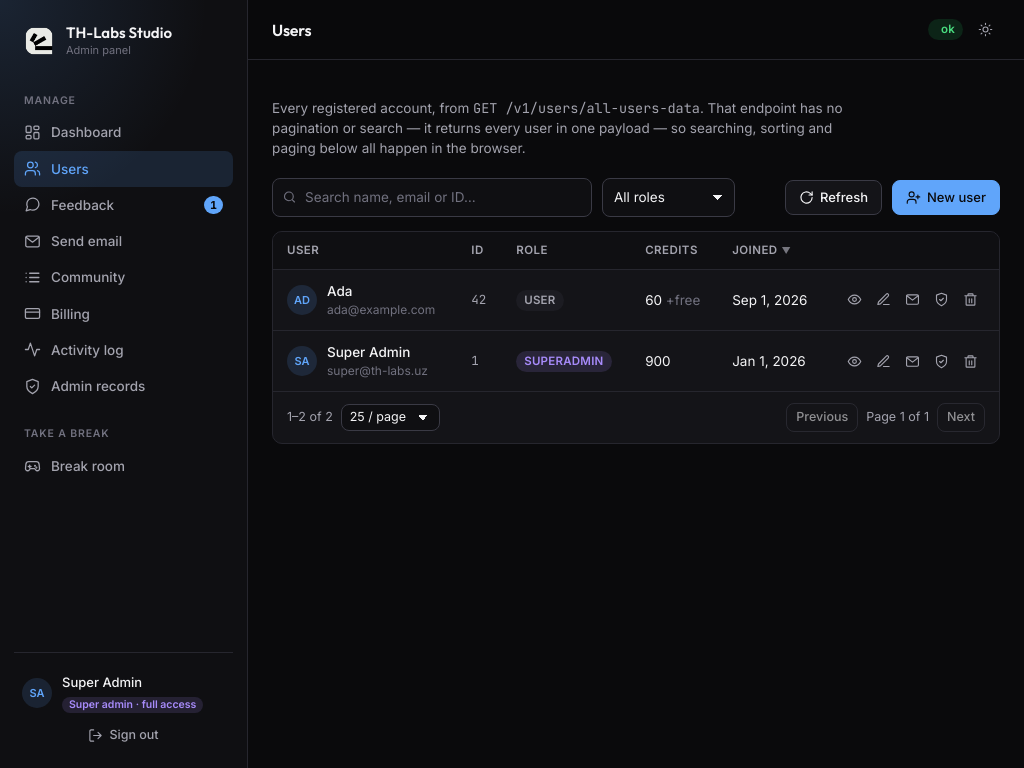
users › lists users with credits and offers a role change to a SUPERADMIN
Expected: the text "ada@example.com" is shown, left=327, top=301, right=435, bottom=319
Click the button titled "Change role" in the row of "super@th-labs.uz": (942, 361) left=927, top=347, right=956, bottom=376
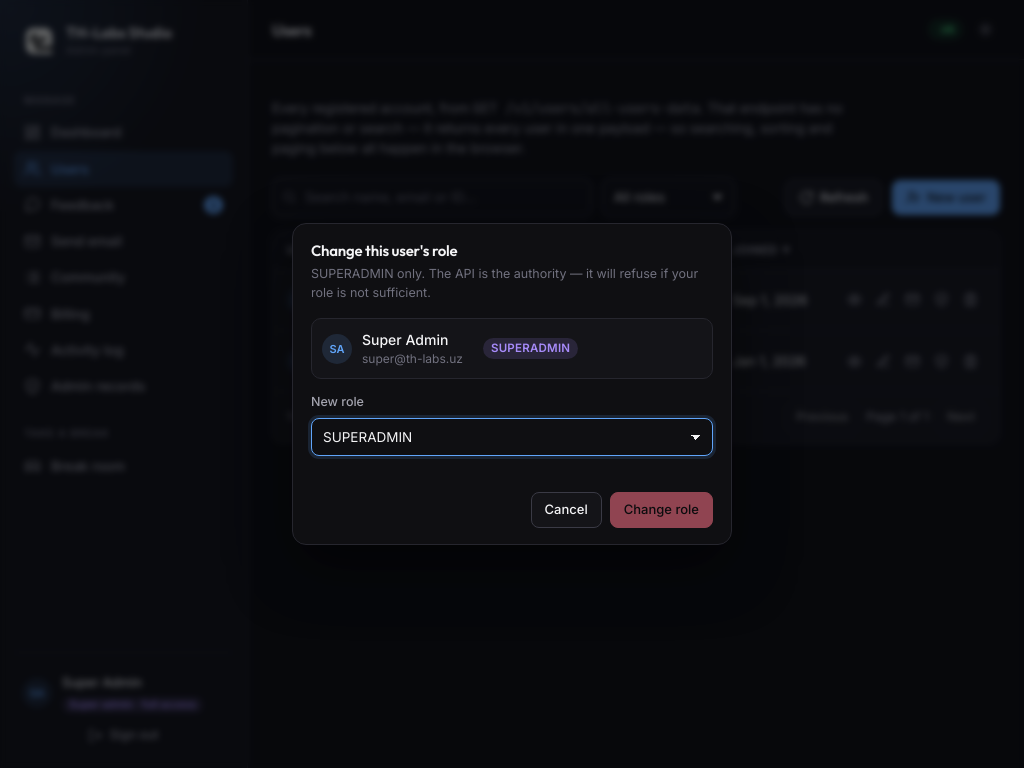
Expected: the heading "Change this user's role" is shown, left=311, top=241, right=457, bottom=260
